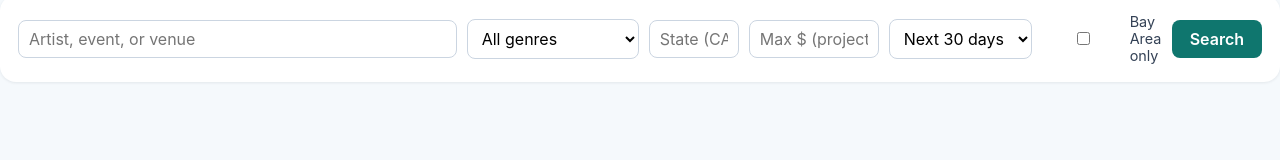
Test case: SearchPanel › shows an empty-state message when nothing matches
Click the button "Search".
click(1217, 38)  # box [1172,20,1262,58]
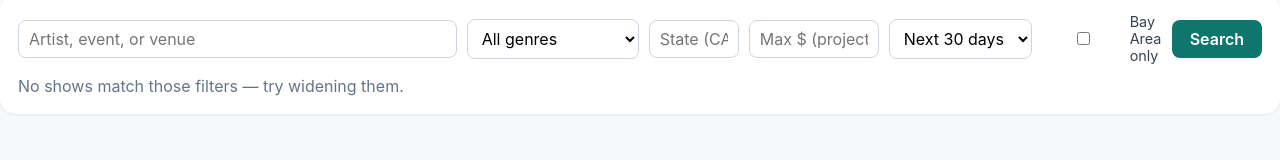
Now the text "No shows match those filters — try widening them." is shown, box [18,76,404,96]
